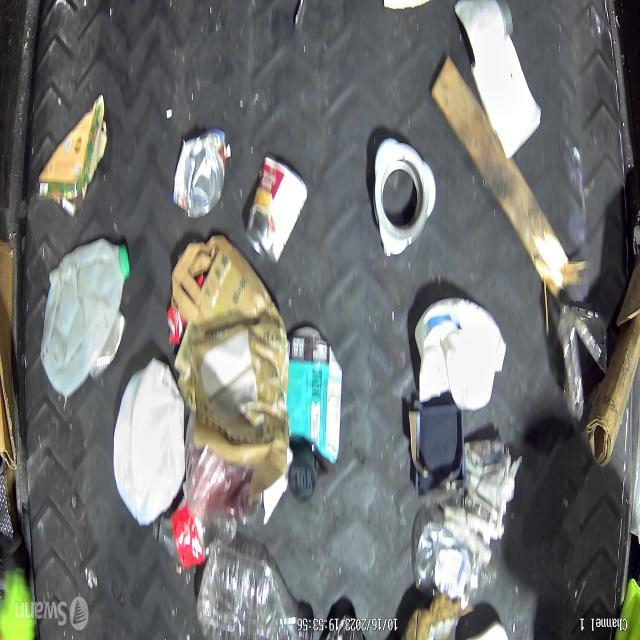can: (243, 146, 310, 271), (172, 129, 235, 225)
milk_jug: (37, 238, 131, 404), (112, 351, 192, 528), (416, 288, 510, 408), (151, 502, 235, 572)
plastic_bottle: (196, 540, 316, 640)
